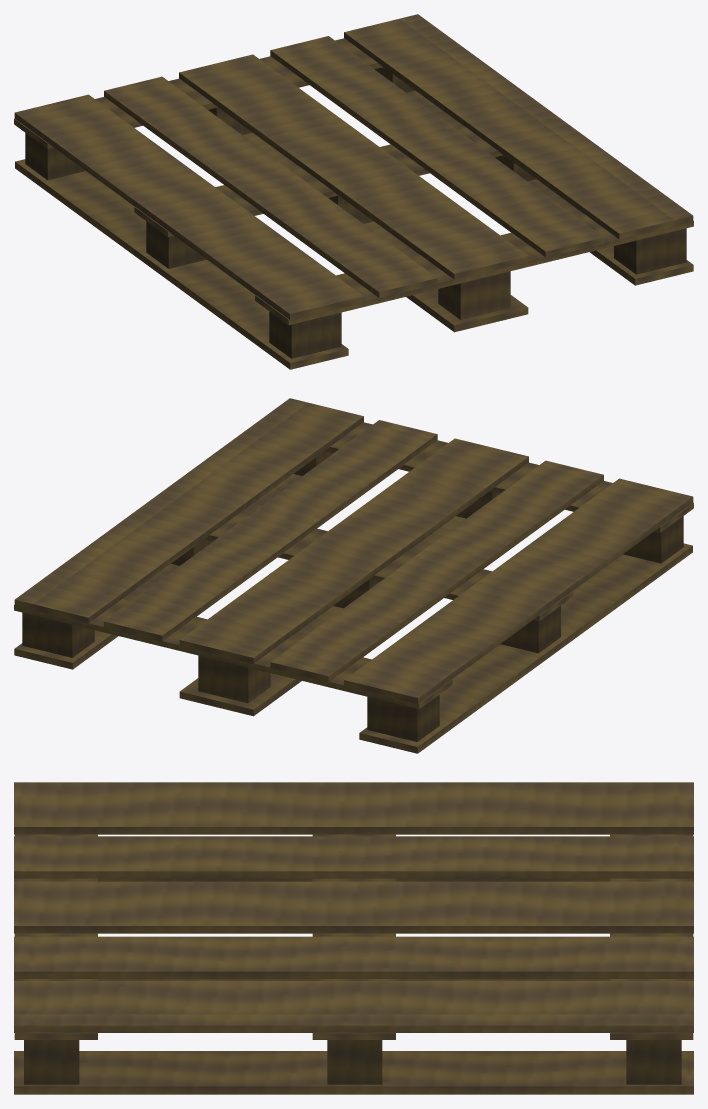
File: pallet.glb
3 views of the same model, one above another, from view 1: azimuth 30°, elevation 25°; view 2: azimuth 150°, elevation 25°; view 3: azimuth 270°, elevation 25° (orthographic). The views are drawn at different scales.
Parts seen in each view (by area): view 1: stktex_generic_WoodG.png__; view 2: stktex_generic_WoodG.png__; view 3: stktex_generic_WoodG.png__.
Boxes of the visible parts, box(x1,y1,x2,y2) form: stktex_generic_WoodG.png__: box(14, 14, 693, 369); stktex_generic_WoodG.png__: box(14, 398, 693, 753); stktex_generic_WoodG.png__: box(14, 782, 693, 1094).
Bounding box in the file's own units: 2.58 × 0.3553 × 3.04.
Materials: 1 (1 with a texture image).
